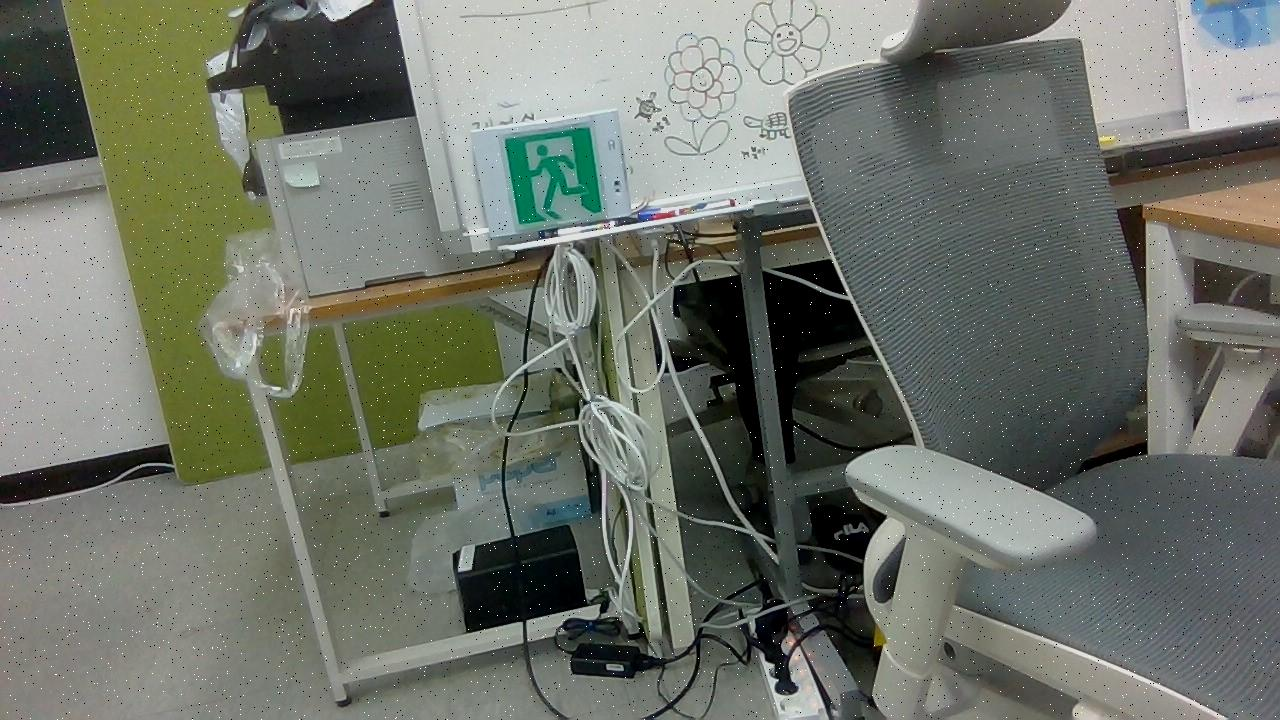emergency_exit: (470, 108, 633, 246)
